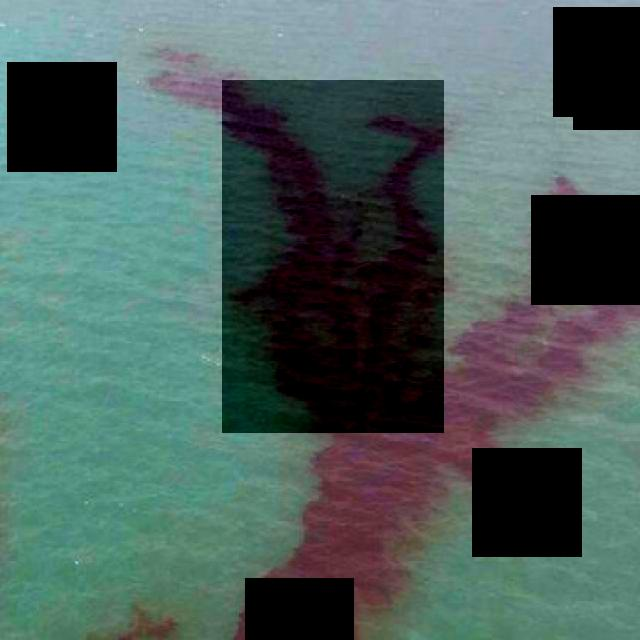oil spill: (223, 80, 444, 433)
